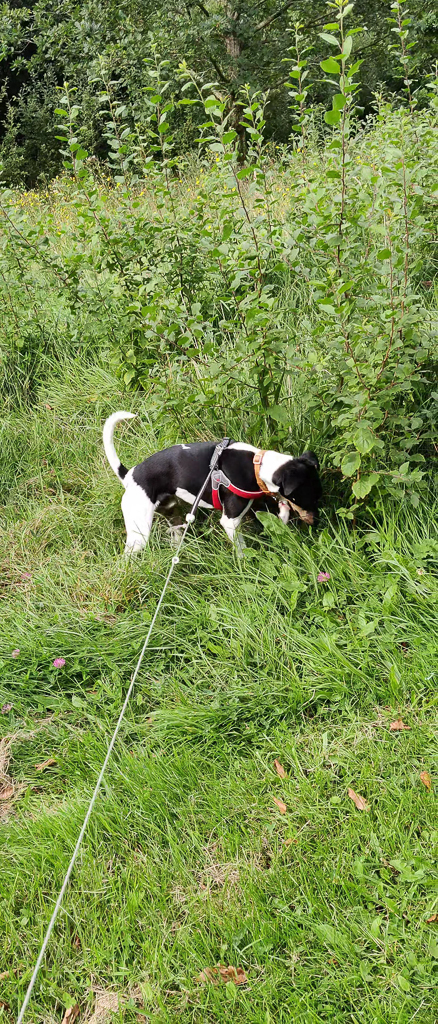Dog: (93, 405, 336, 572)
